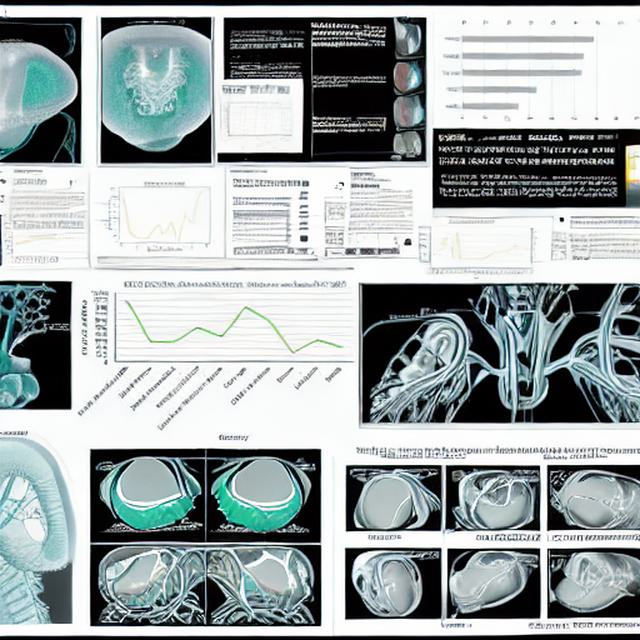Graph: (75, 272, 357, 446), (442, 25, 604, 126), (104, 174, 222, 255), (417, 220, 527, 280), (220, 98, 295, 143), (2, 229, 61, 266)
